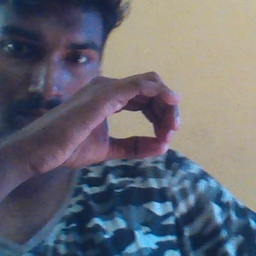O: (34, 62, 185, 171)
